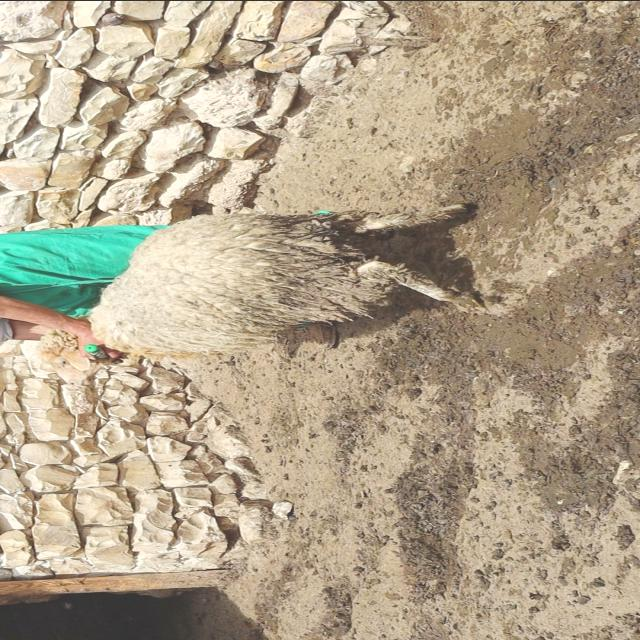Score_2: (89, 203, 490, 359)
